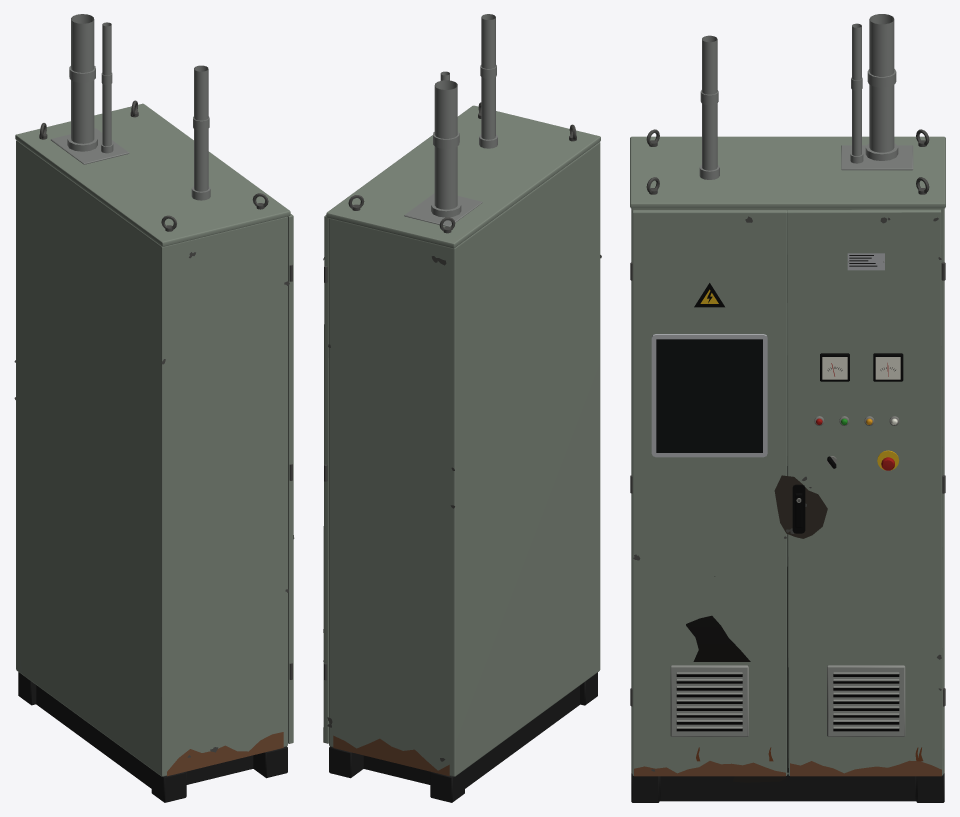
The model's file is mach_cabinet.glb.
3 views of the same model, side by side, from view 1: azimuth 30°, elevation 25°; view 2: azimuth 150°, elevation 25°; view 3: azimuth 270°, elevation 25° (orthographic). The views are drawn at different scales.
Visible parts, largest first — view 1: schaltschrank1, schaltschrank19, schaltschrank0, schaltschrank20, schaltschrank2; view 2: schaltschrank1, schaltschrank19, schaltschrank0, schaltschrank20, schaltschrank2; view 3: schaltschrank1, schaltschrank8, schaltschrank17, schaltschrank19, schaltschrank0, schaltschrank5, schaltschrank20, schaltschrank7, schaltschrank3, schaltschrank6, schaltschrank18, schaltschrank2 (+1 smaller).
Part boxes in pixels (x1,y1,x2,y2): schaltschrank1: (15,103,293,776); schaltschrank19: (50,14,210,200); schaltschrank0: (18,672,287,802); schaltschrank20: (167,732,283,776); schaltschrank2: (14,100,294,757); schaltschrank1: (323,105,600,776); schaltschrank19: (404,14,497,226); schaltschrank0: (329,672,597,802); schaltschrank20: (323,735,449,776); schaltschrank2: (323,102,601,761); schaltschrank1: (630,136,945,775); schaltschrank8: (656,339,762,452); schaltschrank17: (670,665,905,736); schaltschrank19: (699,14,913,179); schaltschrank0: (631,773,944,802); schaltschrank5: (676,500,899,731); schaltschrank20: (634,760,941,776); schaltschrank7: (651,253,884,457); schaltschrank3: (694,283,903,772); schaltschrank6: (774,475,827,538); schaltschrank18: (686,576,750,661); schaltschrank2: (630,129,945,771).
Bounding box in the file's own units: 0.5662 × 2.6 × 1.01.
